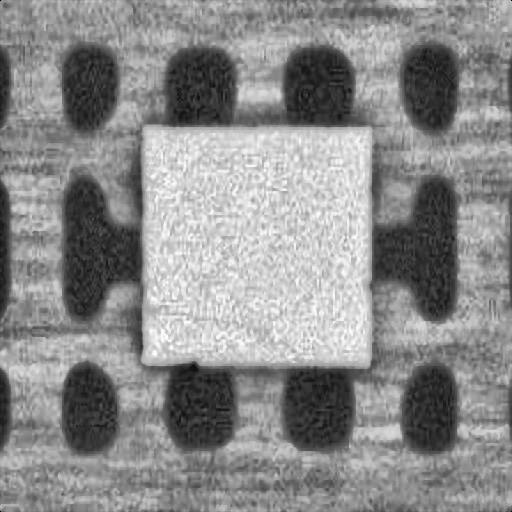DIE_CRACK: (145, 300, 294, 350)
